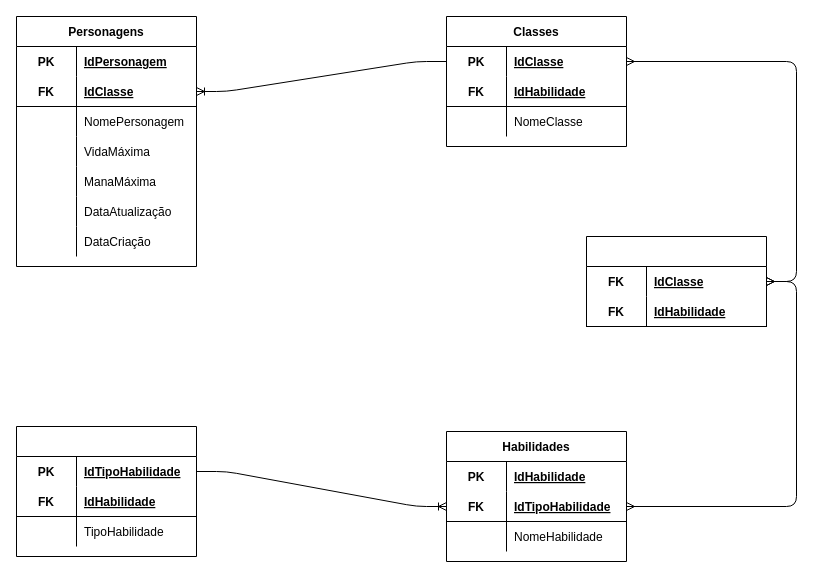
Image size: 813x578. Some labels were removed from this diagram. The shapes that lost their labels are listed below. From the top down, each one's box as (x1, y1, x2, y2) in pixels, then its label:
(586, 236, 766, 326): ClassesHabilidades
(16, 426, 196, 556): TipoHabilidades
